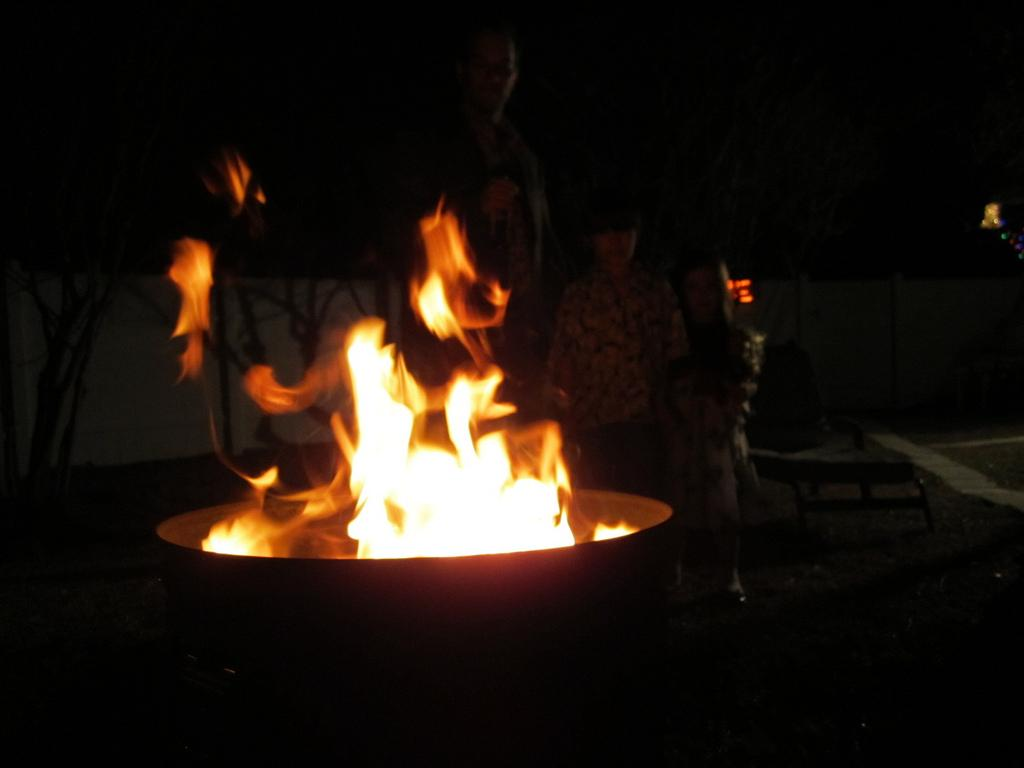fire: (368, 358, 542, 550)
